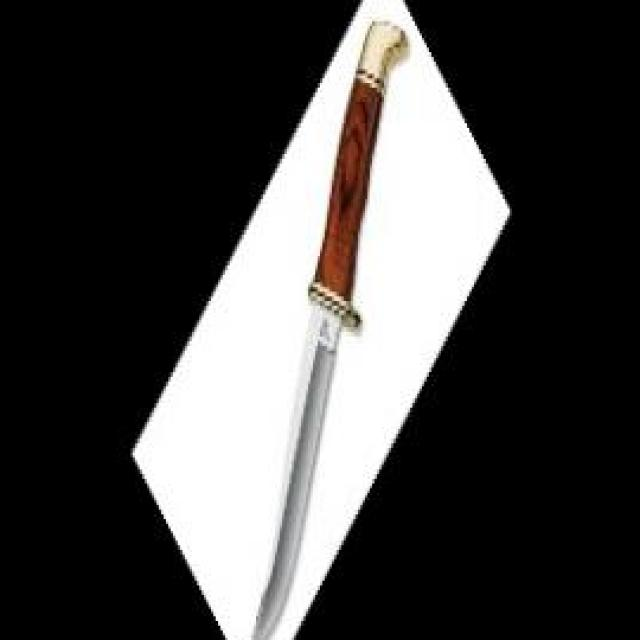knife: (237, 26, 410, 640)
